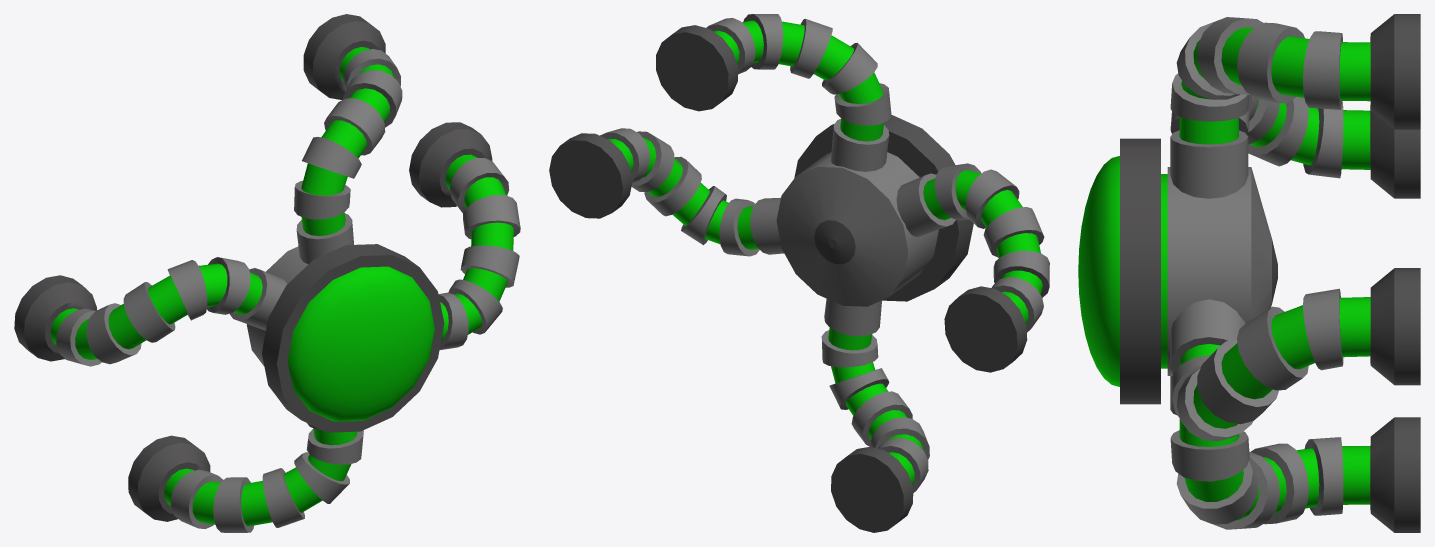
The model's file is Robot_Light_B.fbx.
3 renders of one model, left to right at view 1: azimuth 30°, elevation 25°; view 2: azimuth 150°, elevation 25°; view 3: azimuth 270°, elevation 25°, orthographic. The views are drawn at different scales.
Parts seen in each view (by area): view 1: pSphere28, pCylinder57, pCylinder56, pCylinder58, pCylinder55; view 2: pSphere28, pCylinder56, pCylinder57, pCylinder55, pCylinder58; view 3: pSphere28, pCylinder56, pCylinder55, pCylinder58, pCylinder57.
Part boxes in pixels (<box>): pSphere28: <box>247,244,444,432</box>; pCylinder57: <box>14,257,287,366</box>; pCylinder56: <box>294,14,402,264</box>; pCylinder58: <box>128,423,363,532</box>; pCylinder55: <box>409,122,520,349</box>; pSphere28: <box>776,115,973,306</box>; pCylinder56: <box>656,14,891,171</box>; pCylinder57: <box>896,163,1049,372</box>; pCylinder55: <box>549,128,783,256</box>; pCylinder58: <box>821,299,929,532</box>; pSphere28: <box>1078,138,1277,404</box>; pCylinder56: <box>1170,14,1420,198</box>; pCylinder55: <box>1170,268,1420,441</box>; pCylinder58: <box>1170,376,1420,532</box>; pCylinder57: <box>1170,95,1420,198</box>.
Size of the model in its own units: 1.73 by 0.7985 by 1.61.
